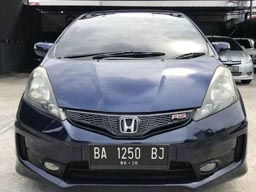plat: (88, 144, 169, 160)
